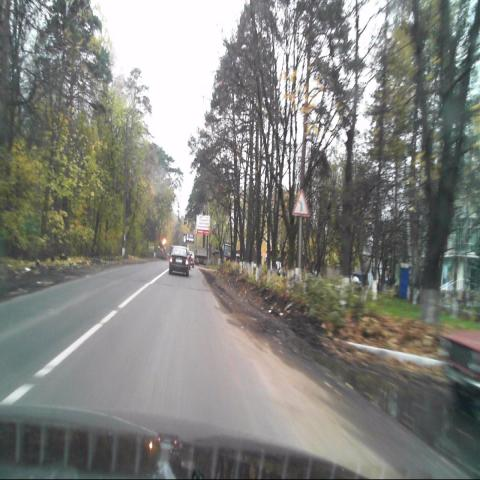1_11_1: (292, 189, 309, 216)
